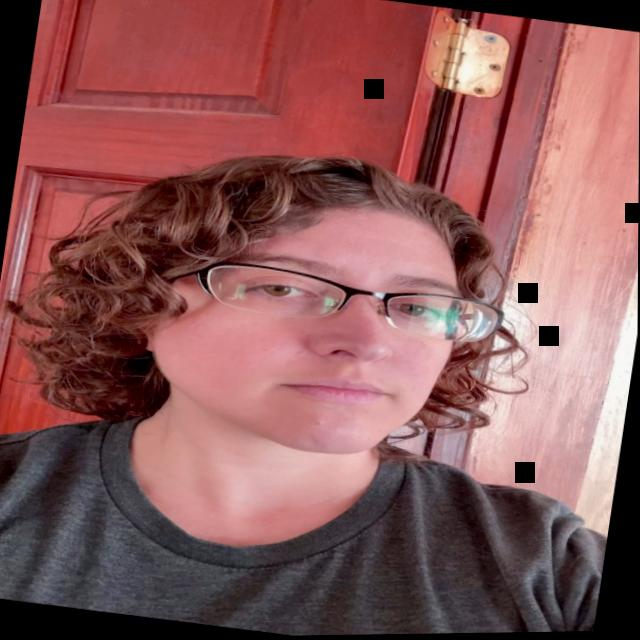NO-Mask: (137, 174, 478, 474)
